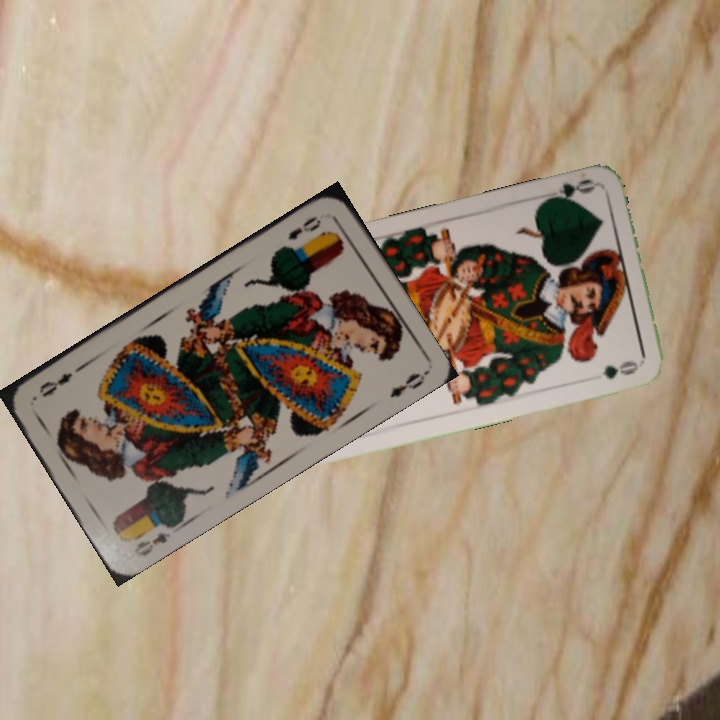EO: (129, 528, 173, 559), (283, 212, 324, 243)
GO: (540, 175, 598, 206)
